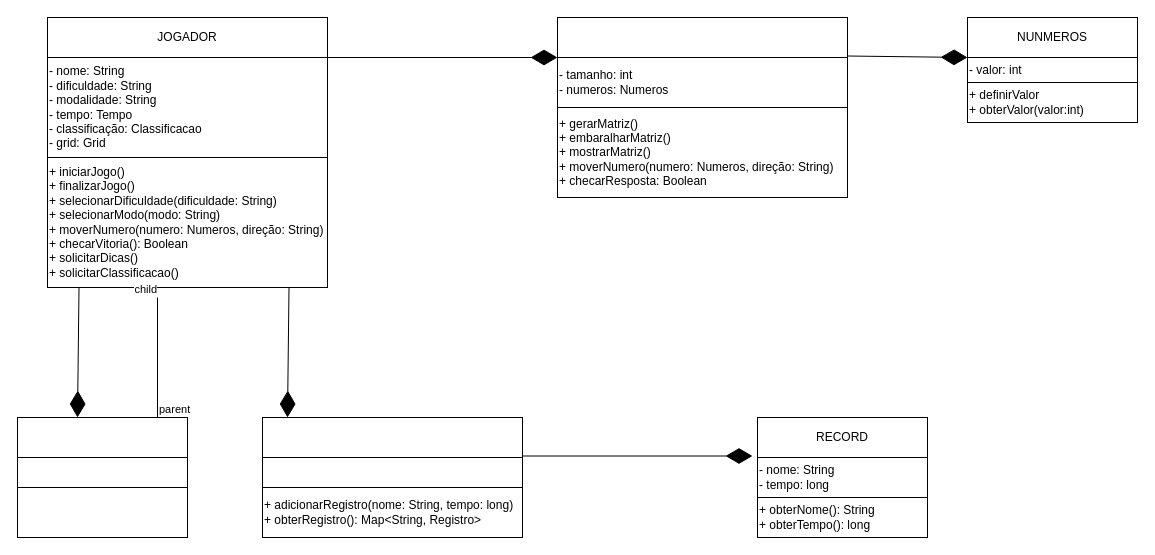
Image size: 1155x555. Some labels were removed from this diagram. Here are the shapes that lost their labels. From the top down, the box of each, then its label:
(556, 16, 848, 58): GRID
(16, 416, 188, 458): TEMPO
(262, 416, 522, 458): CLASSIFICACAO
(16, 456, 188, 488): - inicioTempo: long - fimTempo: long
(262, 456, 522, 488): - registro: Map<String, Registro>
(16, 486, 188, 538): + iniciarTempo() + finalizarTempo() + obterRegistro(): long
